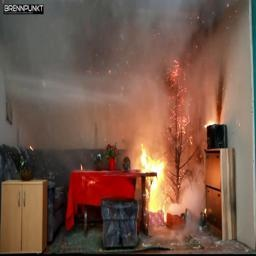fire: (137, 142, 197, 232)
